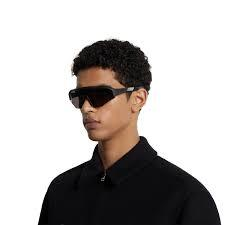sunglasses: (62, 83, 121, 109)
